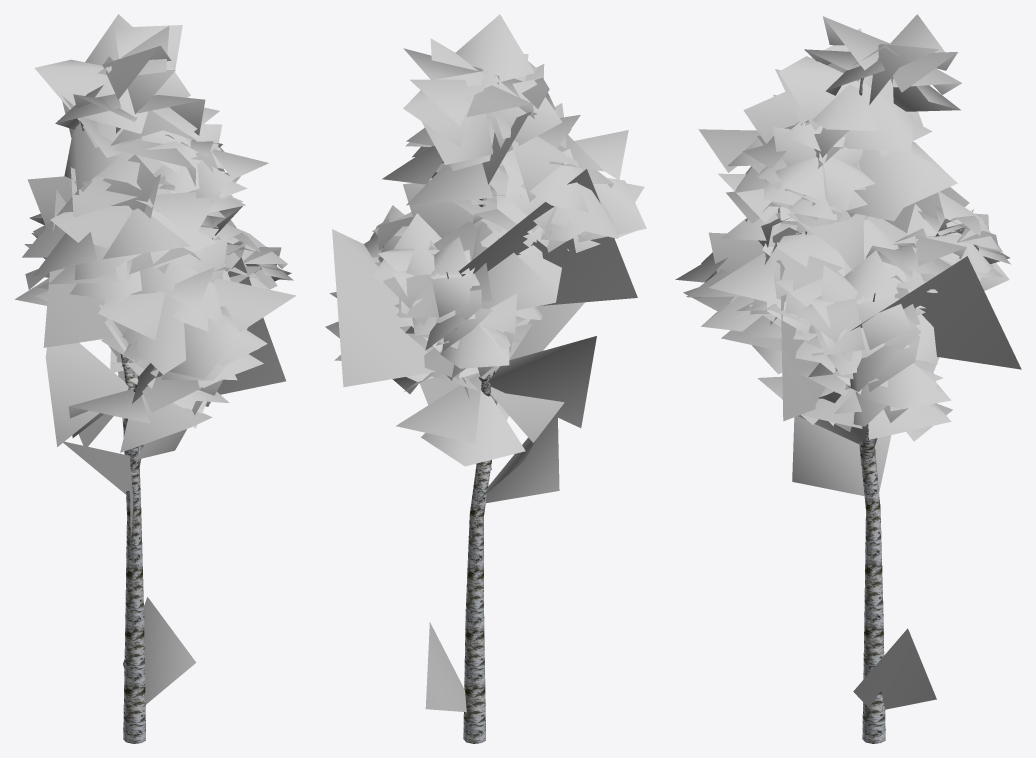
File: birch_13m_autmn.obj
3 views of the same model, side by side, from view 1: azimuth 30°, elevation 25°; view 2: azimuth 150°, elevation 25°; view 3: azimuth 270°, elevation 25° (orthographic). The views are drawn at different scales.
Parts seen in each view (by area): view 1: birch13m; view 2: birch13m; view 3: birch13m.
Boxes of the visible parts, left/top/right/bottom form: birch13m: left=14, top=14, right=295, bottom=743; birch13m: left=325, top=14, right=646, bottom=743; birch13m: left=675, top=14, right=1021, bottom=743.
Size of what is drawn, in the model's own units: 533 by 1308 by 568.
